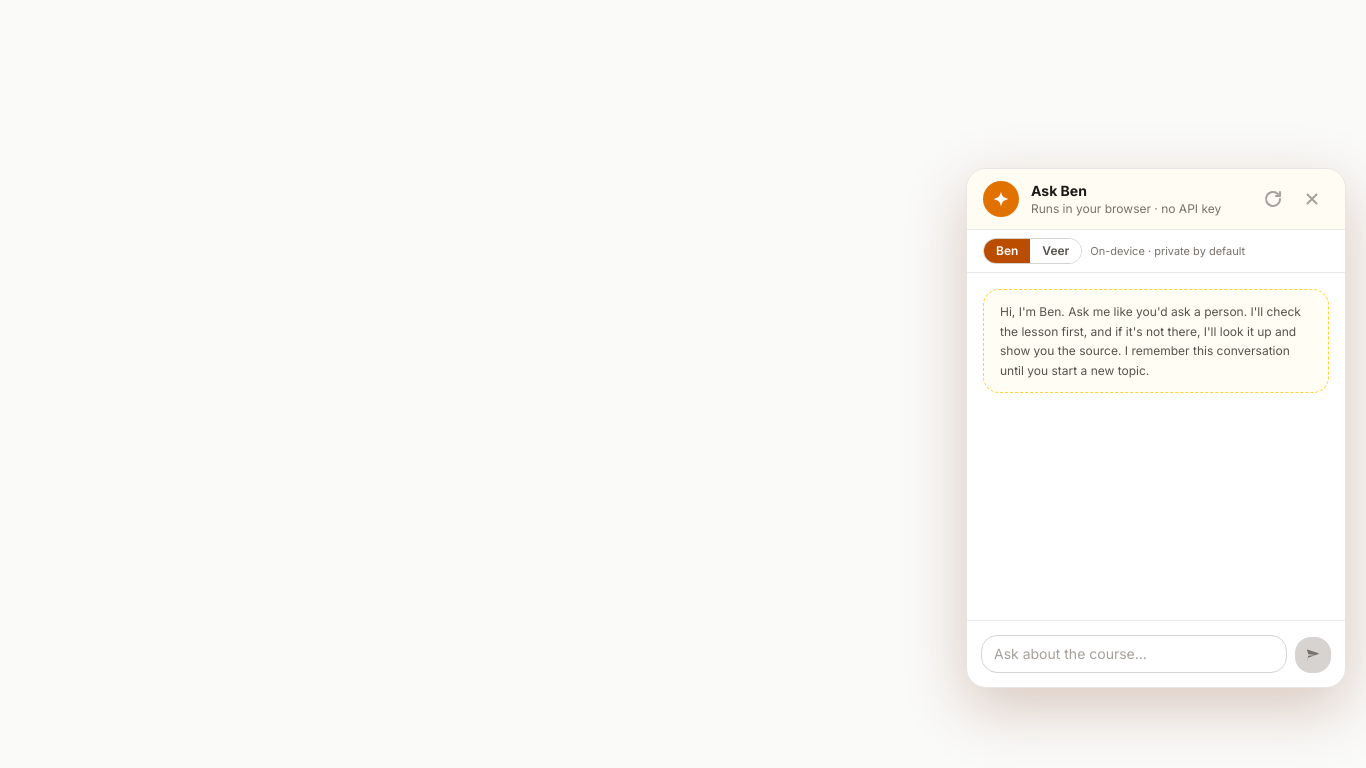
Test case: QaChatPanel Veer port (Manifest 2) › H1: a signed-out student chats with Ben and makes zero /api/qa/* requests
Type "What is the CAP theorem?" into the text box labelled "Ask about the course" at (1134, 654), box [981, 635, 1287, 673]
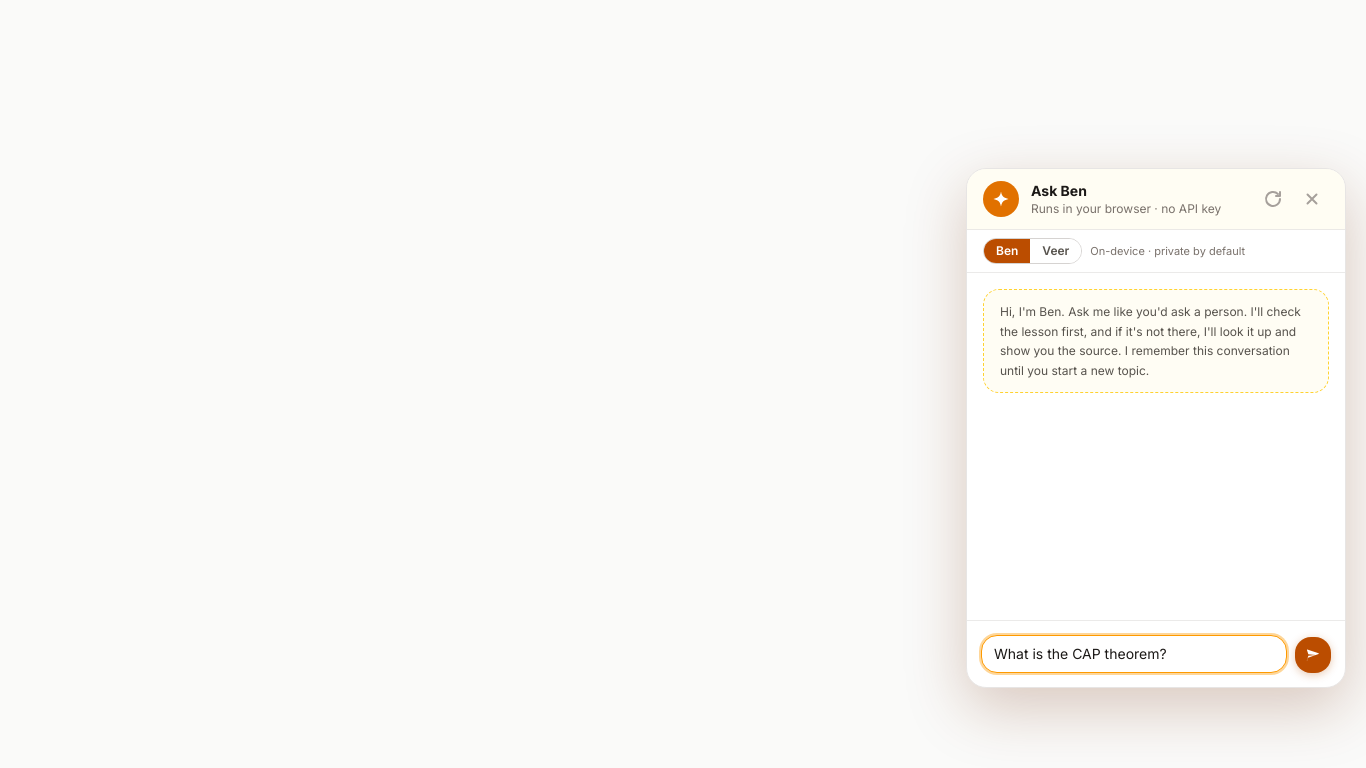
Click the button named "Send message" at (1313, 655), box [1295, 637, 1331, 673]
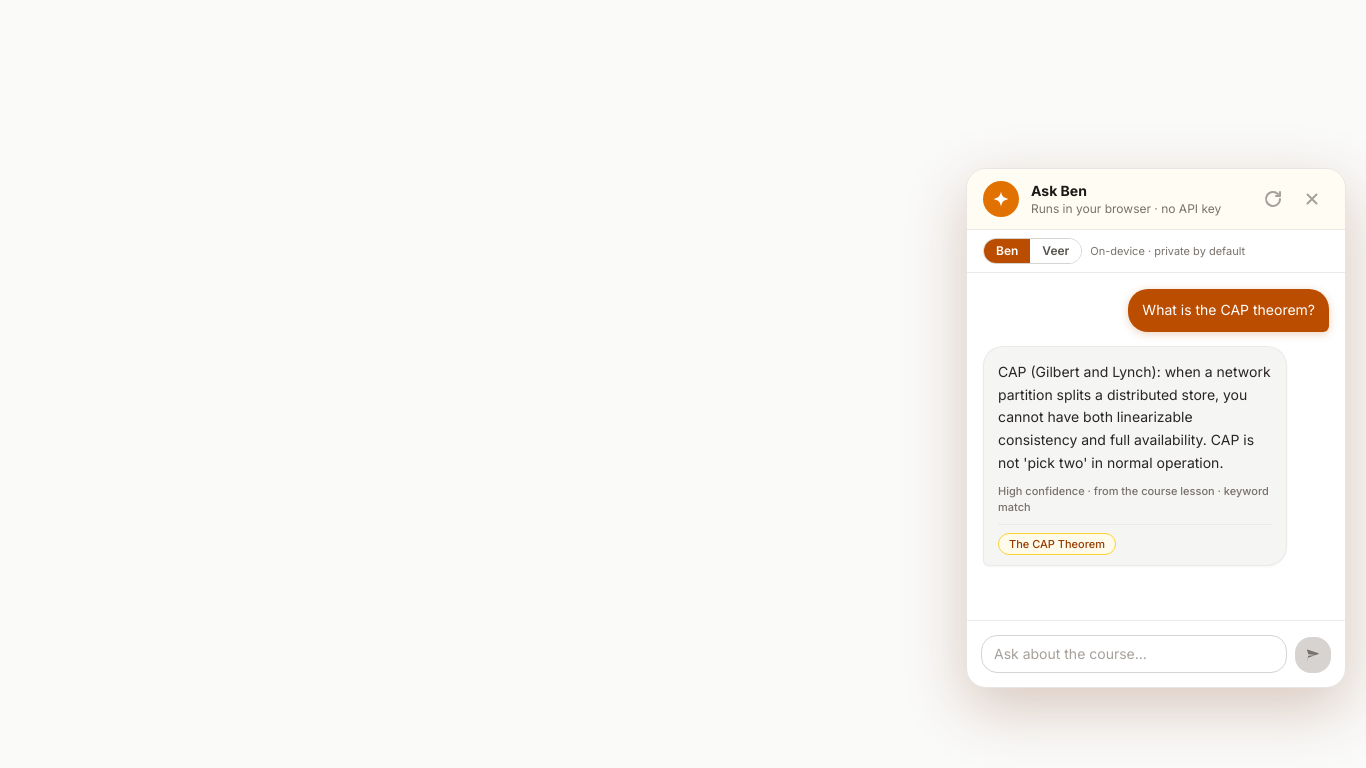
Check: the button "Veer" is shown, box [1030, 239, 1081, 263]
Check: the text "What is the CAP theorem?" is shown, box [1142, 299, 1315, 322]
